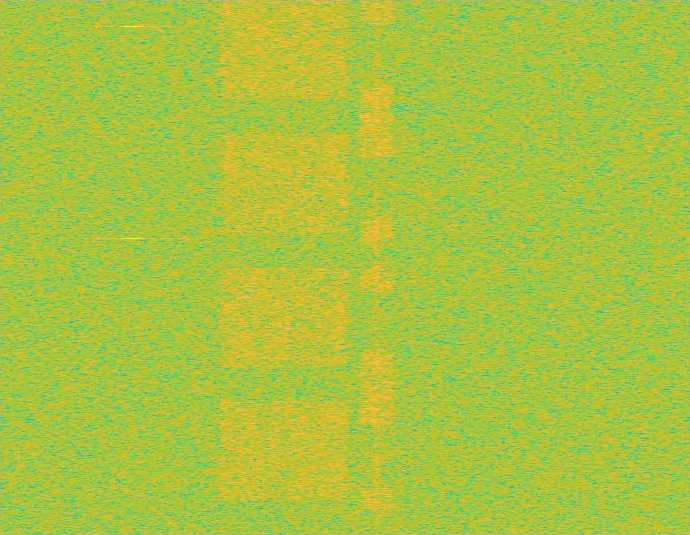5G: (215, 0, 353, 534)
DSSS: (373, 0, 381, 534)
LTE: (360, 0, 394, 534)
Radar: (125, 0, 139, 534)
